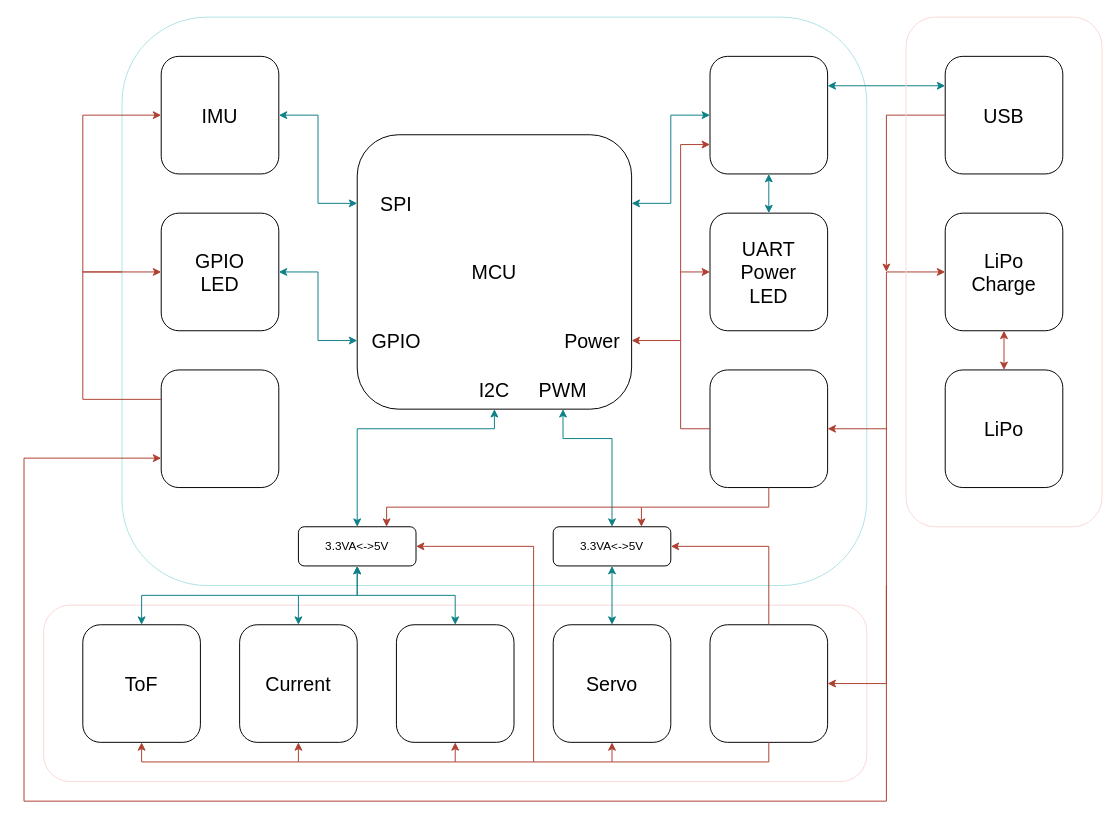
Some shapes in this 1119 by 828 pixel diagram are drawn without their labels. The centre of each missing label's shape, as x and y in pixels:
"DC/DC 3.3V" goes at (219,428).
"DC/DC 3.3VA" goes at (768,428).
"DC/DC 5V" goes at (768,683).
"MD" goes at (454,683).
"USB UART" goes at (768,114).
